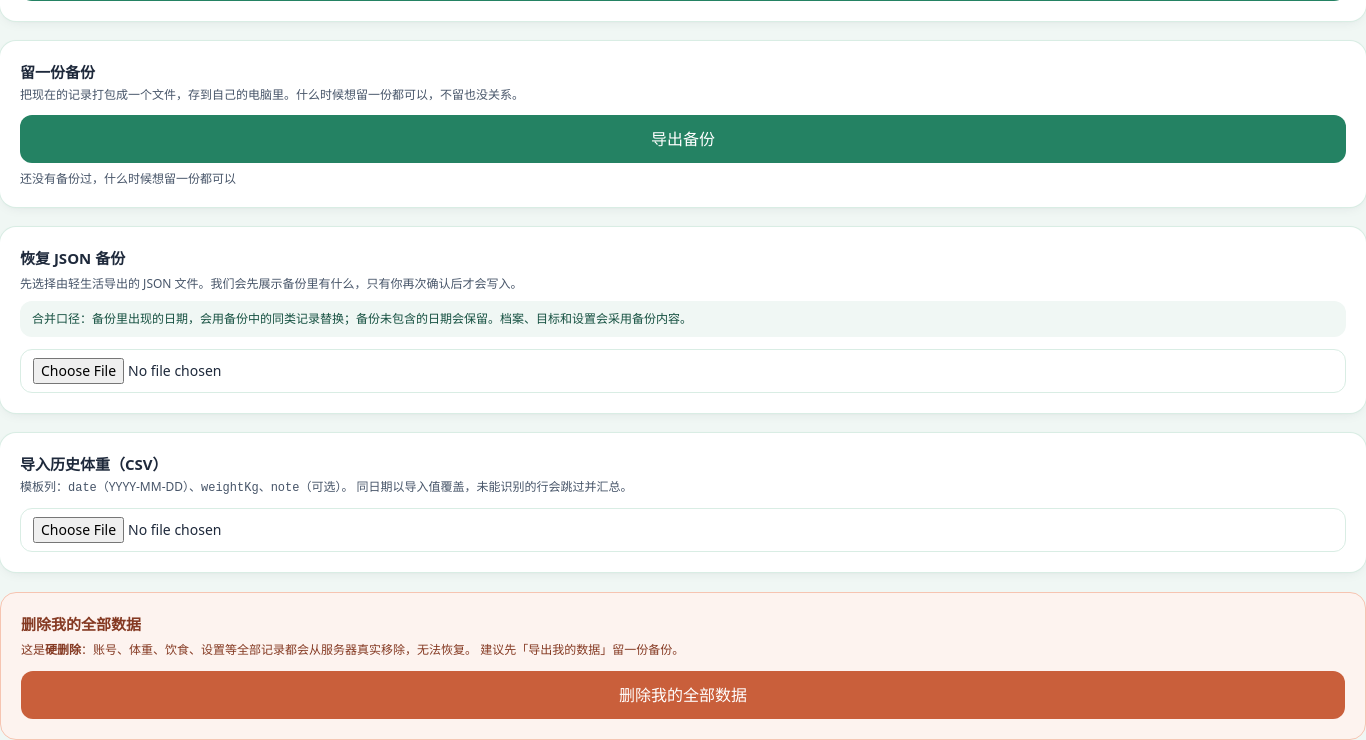
Test: 一键清除数据 · react-query 内存缓存 › ★ 「删除我的全部数据」确认后内存缓存被清空
The image size is (1366, 740).
(page scrolled)
Click the button "删除我的全部数据": click(683, 695) [21, 671, 1345, 719]
(page scrolled)
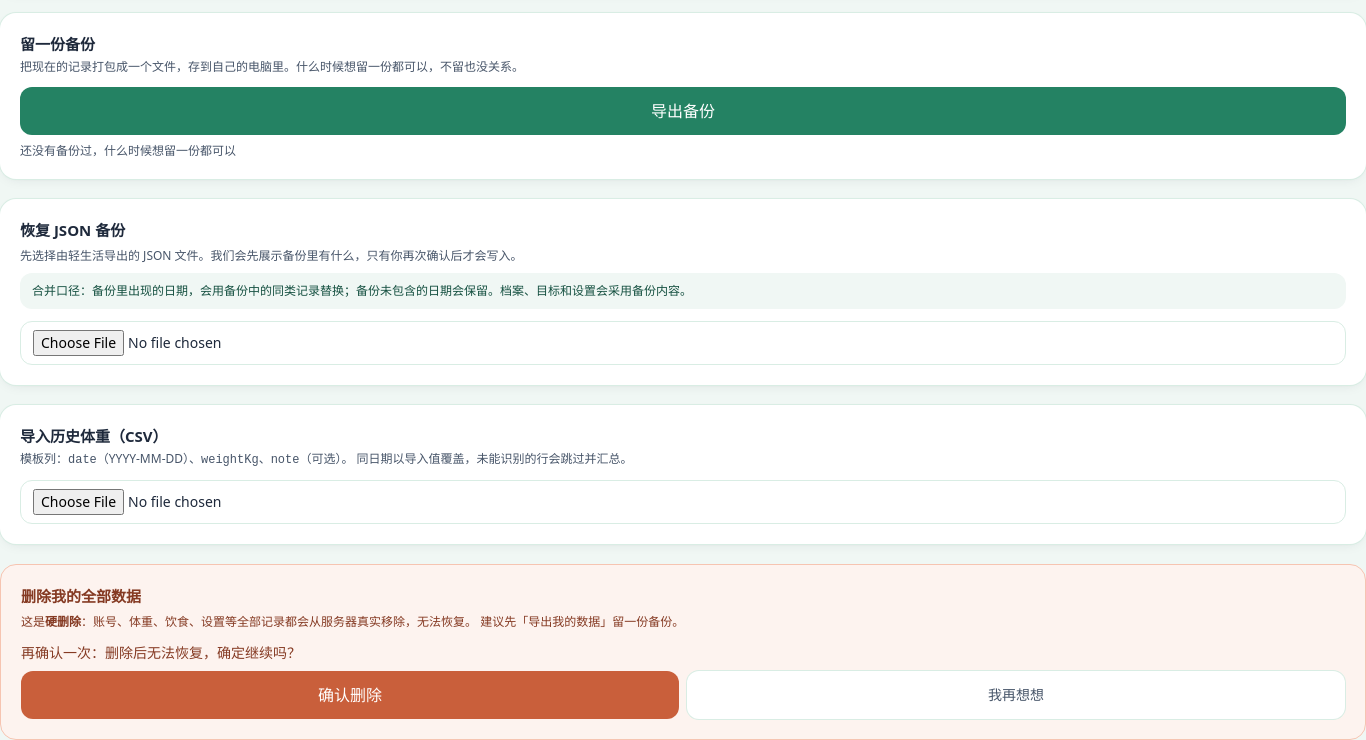
Click the button "确认删除": click(350, 695) [21, 671, 679, 719]
(page scrolled)
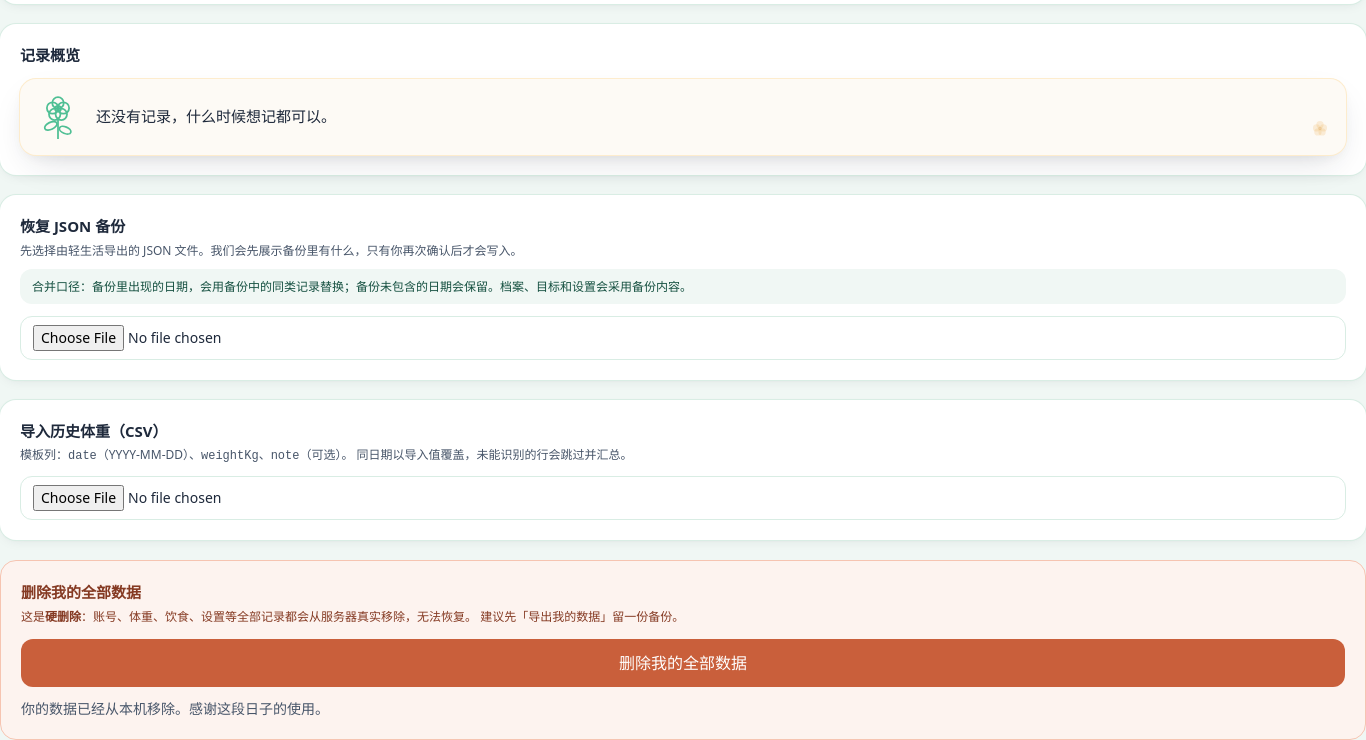
Expected: the text "你的数据已经从本机移除。感谢这段日子的使用。" is shown, [21, 698, 329, 718]
